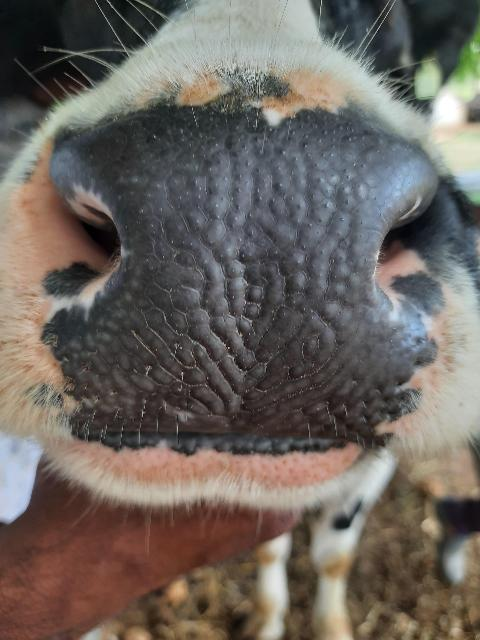Muzzle: (121, 139, 375, 425)
